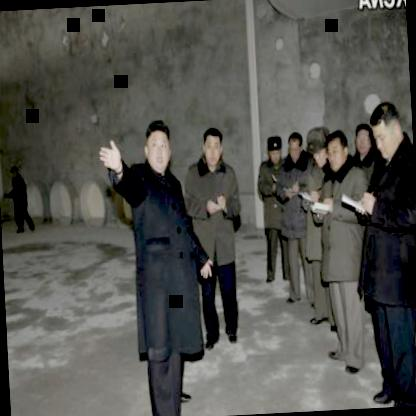head: (368, 95, 406, 162), (140, 117, 176, 172), (320, 126, 348, 174), (198, 123, 226, 170), (352, 118, 378, 160), (262, 130, 285, 168), (286, 127, 306, 164)
